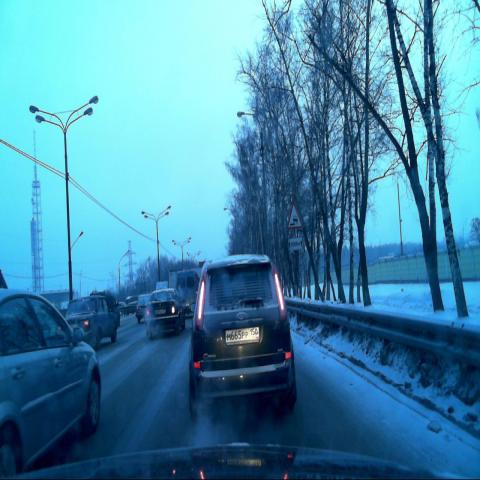1_19: (286, 202, 302, 230)
